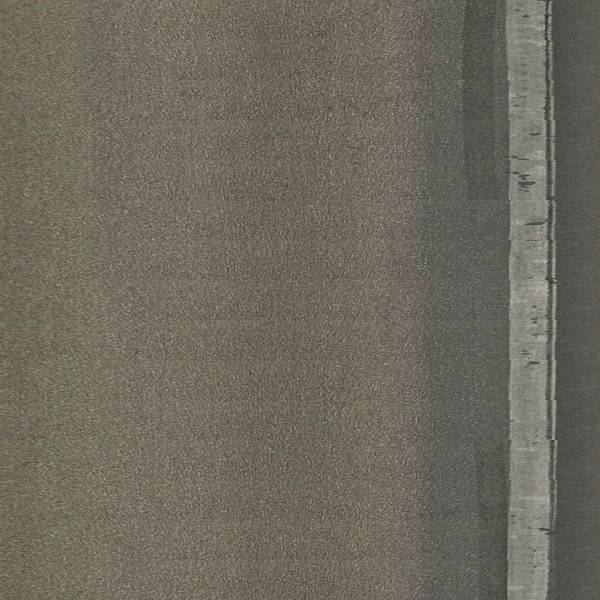road_damage: (513, 154, 559, 374)
